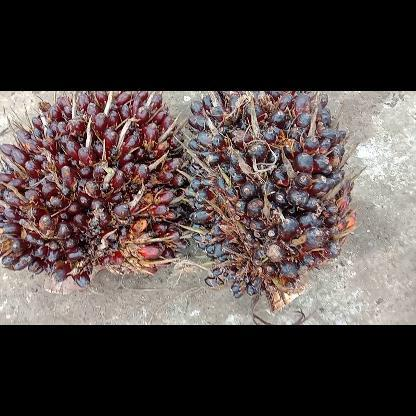Kurang masak: (184, 91, 358, 309)
TBS masak: (0, 92, 184, 288)
